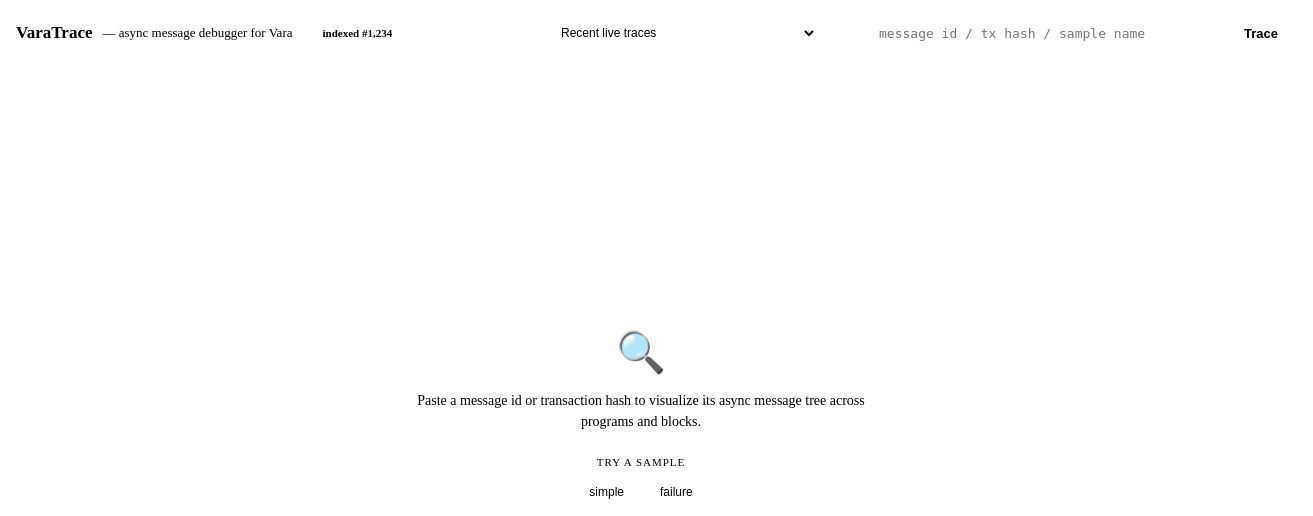
Test case: Home page › does not label malformed input as the viewed trace
The image size is (1313, 516).
Expected: the dropdown named "Recent live traces" is shown, [547,16,817,50]
Type "0xshort" into the field with placeholder "message id / tx hash / sample name" at (1042, 33), box [867,16,1218,50]
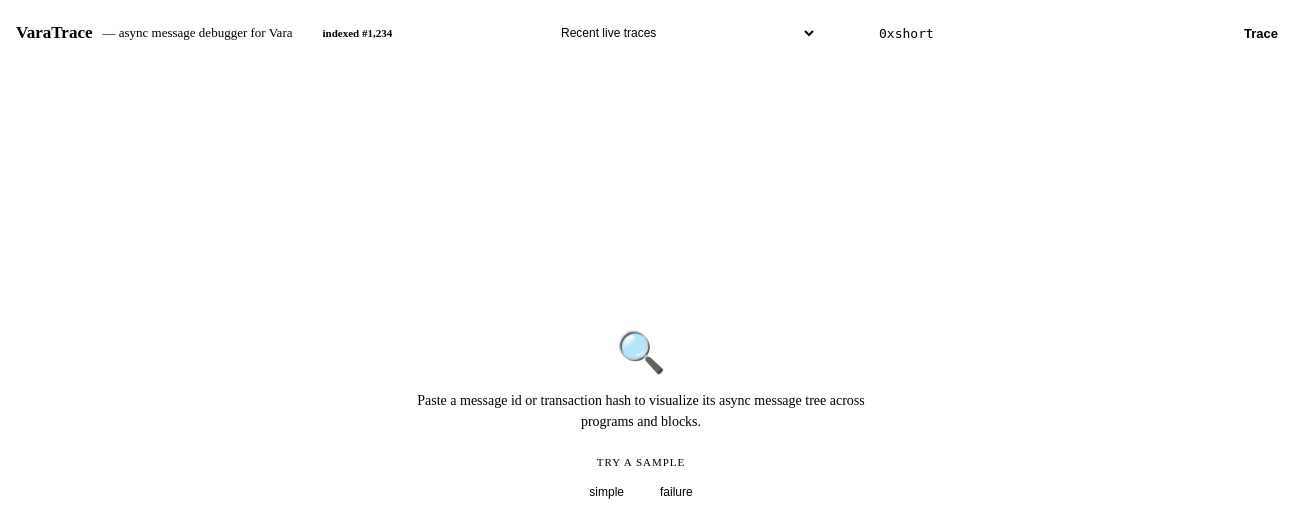
Click the button "Trace" at (1261, 33), box [1226,16,1296,50]
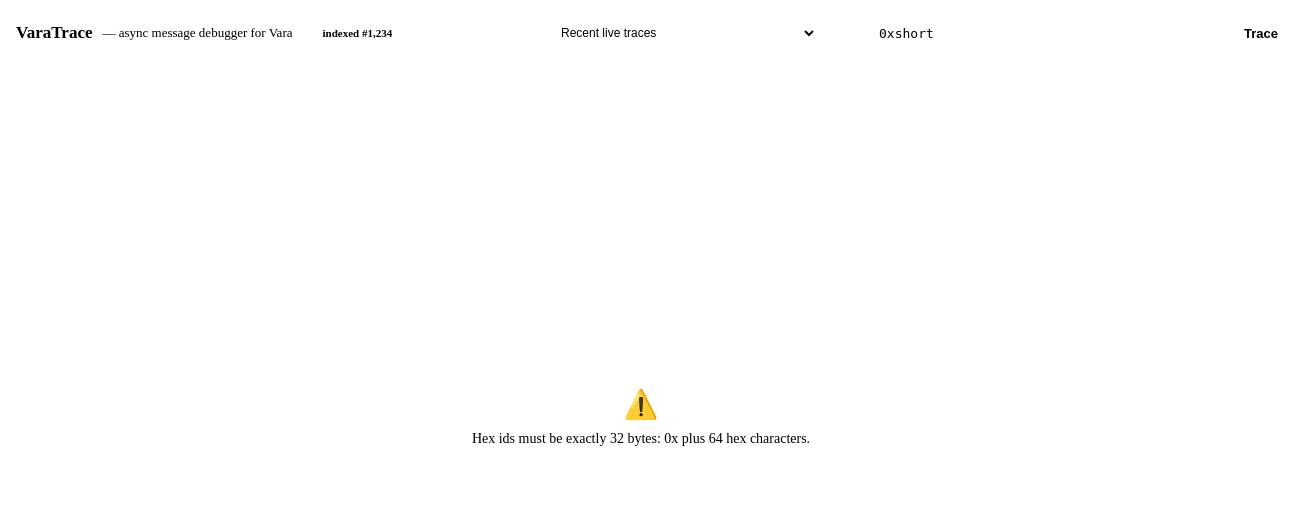
Now the text "Hex ids must be exactly 32 bytes: 0x plus 64 hex characters." is shown, box [472,430,810,446]
